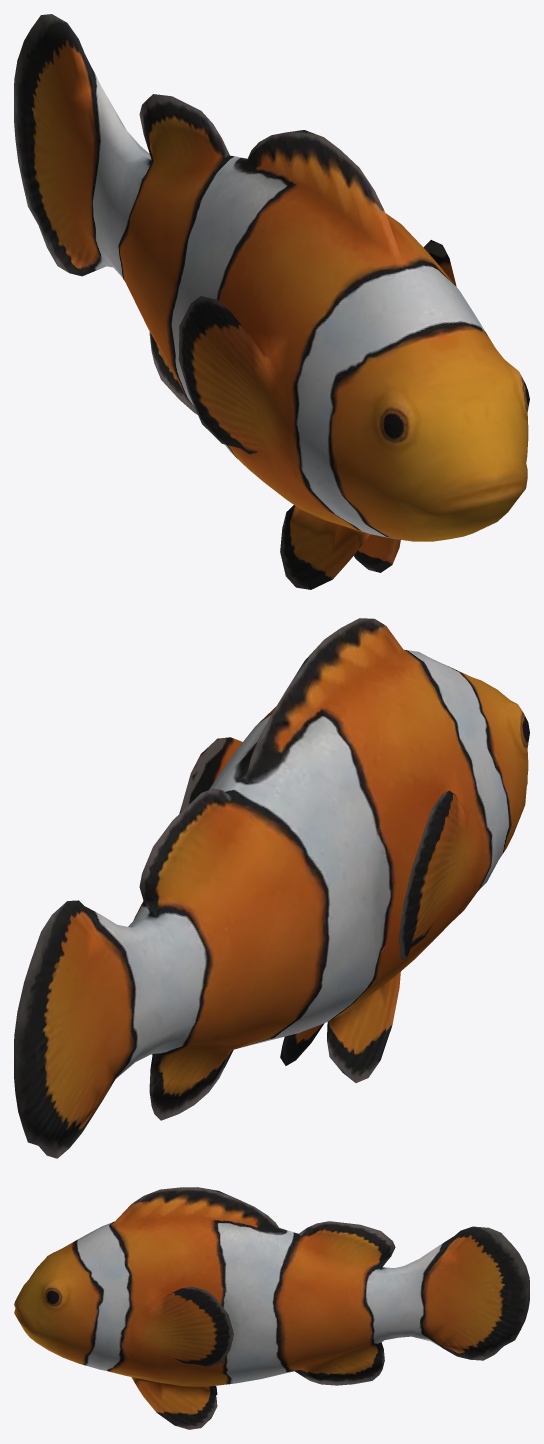
The model's file is clownfish.glb.
3 renders of one model, top to bottom at view 1: azimuth 30°, elevation 25°; view 2: azimuth 150°, elevation 25°; view 3: azimuth 270°, elevation 25°, orthographic. The views are drawn at different scales.
Parts seen in each view (by area): view 1: defaultMaterial; view 2: defaultMaterial; view 3: defaultMaterial.
Part boxes in pixels (left/top/right/bottom): defaultMaterial: left=14, top=14, right=529, bottom=589; defaultMaterial: left=14, top=618, right=529, bottom=1158; defaultMaterial: left=14, top=1187, right=529, bottom=1429.
Size of the model in its own units: 0.5743 by 0.9974 by 2.
Materials: 1 (1 with a texture image).
